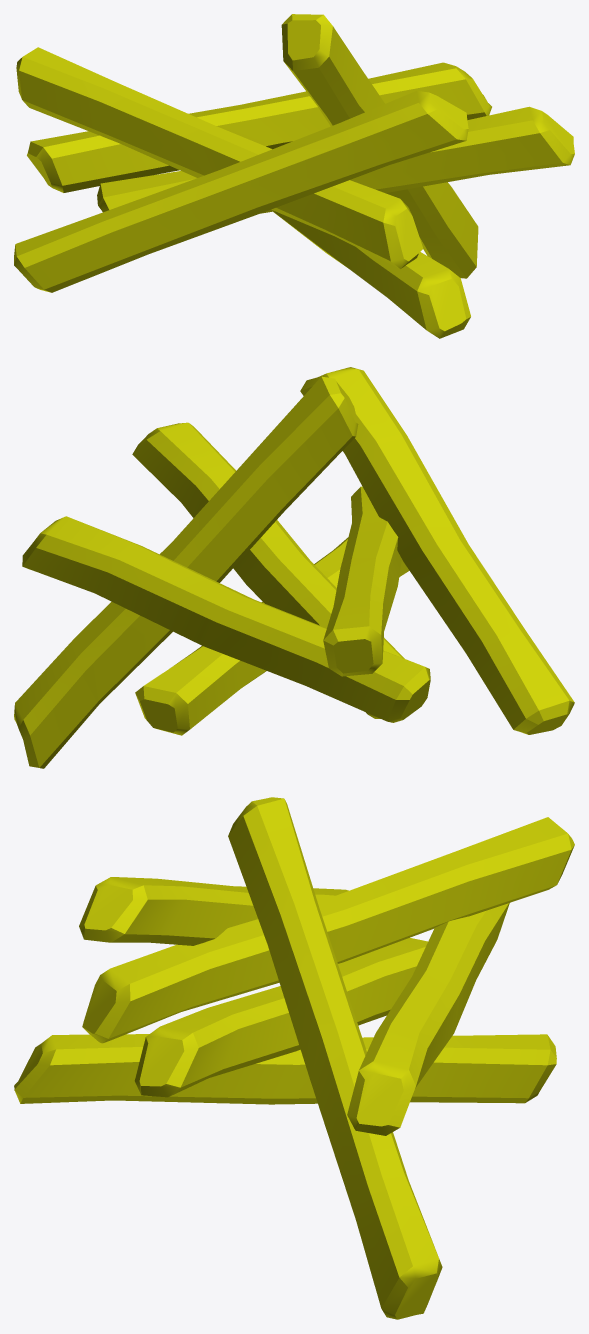
File: ChipsMesh.fbx
3 renders of one model, top to bottom at view 1: azimuth 30°, elevation 25°; view 2: azimuth 150°, elevation 25°; view 3: azimuth 270°, elevation 25°, orthographic. The views are drawn at different scales.
Parts seen in each view (by area): view 1: pCube6, pCube5, pCube4, pCube3, pCube2, pCube1; view 2: pCube3, pCube6, pCube4, pCube2, pCube5, pCube1; view 3: pCube3, pCube5, pCube1, pCube2, pCube4, pCube6.
Boxes of the visible parts, left/top/right/bottom form: pCube6: left=14, top=90, right=468, bottom=292; pCube5: left=16, top=47, right=423, bottom=268; pCube4: left=27, top=62, right=491, bottom=192; pCube3: left=281, top=14, right=478, bottom=278; pCube2: left=97, top=106, right=574, bottom=213; pCube1: left=273, top=211, right=470, bottom=338; pCube3: left=14, top=376, right=358, bottom=768; pCube6: left=300, top=367, right=574, bottom=734; pCube4: left=22, top=516, right=430, bottom=722; pCube2: left=132, top=422, right=404, bottom=718; pCube5: left=323, top=486, right=401, bottom=676; pCube1: left=135, top=537, right=409, bottom=735; pCube3: left=228, top=797, right=442, bottom=1319; pCube5: left=82, top=817, right=574, bottom=1043; pCube1: left=14, top=1034, right=556, bottom=1104; pCube2: left=134, top=938, right=427, bottom=1097; pCube4: left=347, top=903, right=509, bottom=1135; pCube6: left=79, top=877, right=348, bottom=945.
Bounding box in the file's own units: 1.87 × 1.32 × 1.66.
